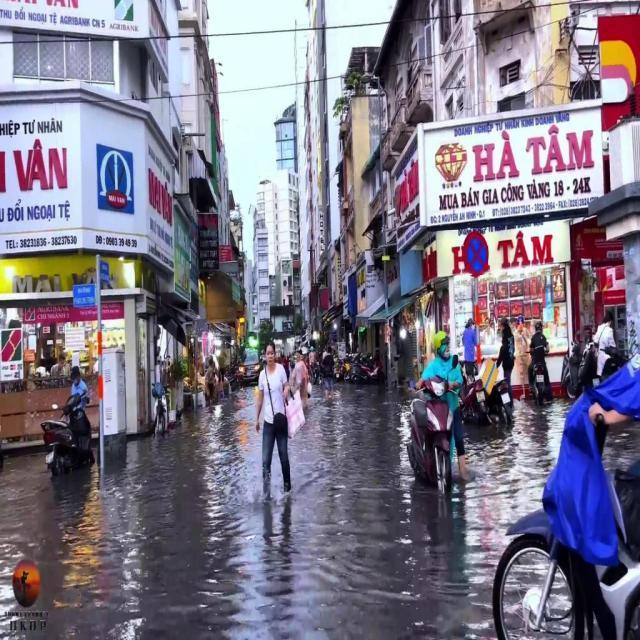130-cam-dung-va-do-xe: (464, 230, 488, 278)
